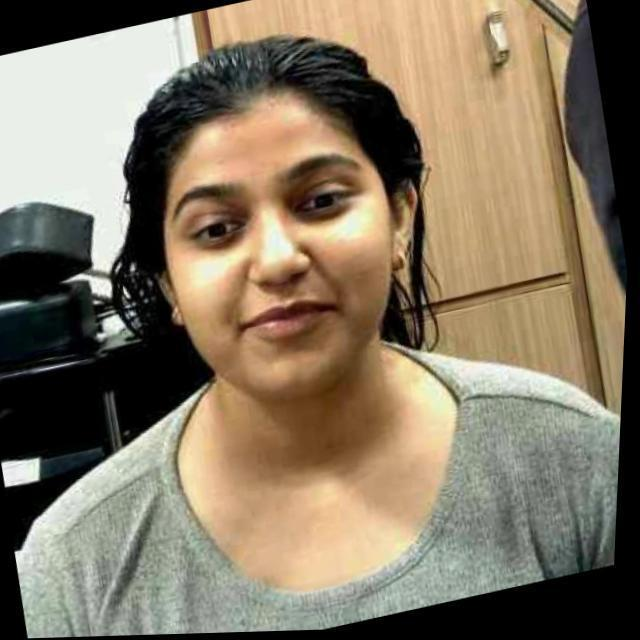puffy_eyes: (297, 205, 351, 226), (195, 234, 246, 250)
